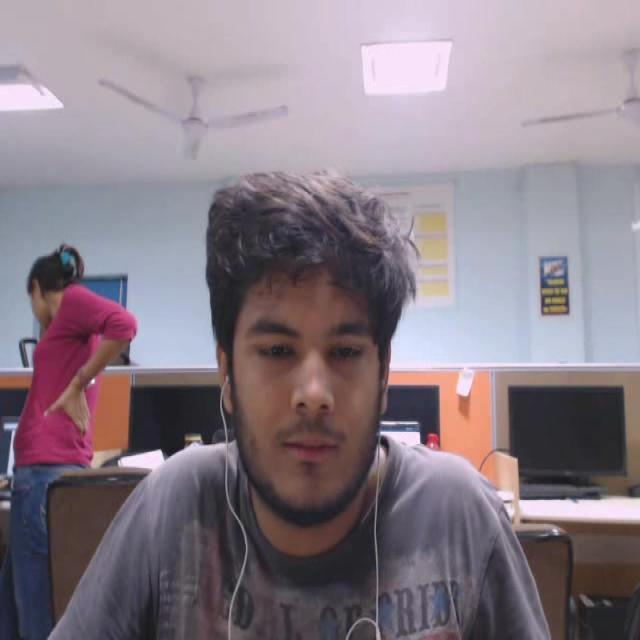Bored: (177, 135, 460, 548)
